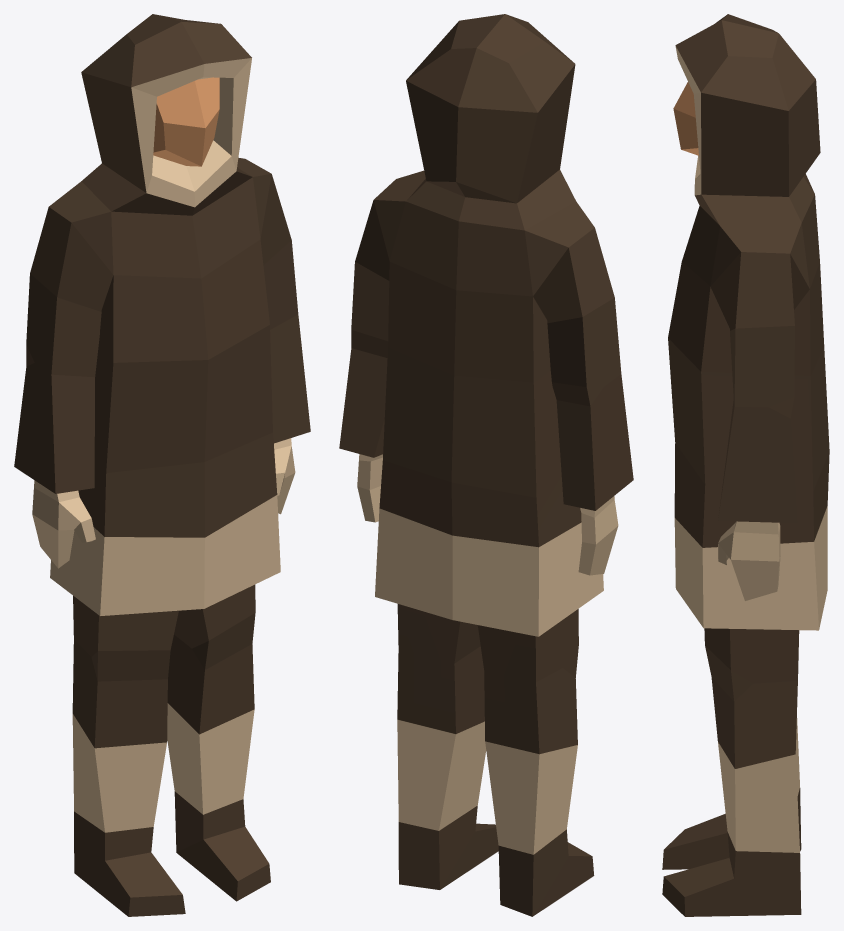
Rendered from man-eskimo.glb.
3 renders of one model, left to right at view 1: azimuth 30°, elevation 25°; view 2: azimuth 150°, elevation 25°; view 3: azimuth 270°, elevation 25°, orthographic.
Visible parts, largest first — view 1: man-eskimo; view 2: man-eskimo; view 3: man-eskimo.
Part boxes in pixels (x1,y1,x2,y2): man-eskimo: [14, 14, 310, 916]; man-eskimo: [339, 14, 633, 916]; man-eskimo: [662, 14, 829, 916].
Bounding box in the file's own units: 0.5794 × 1.85 × 0.3258.
Materials: 1 (1 with a texture image).
